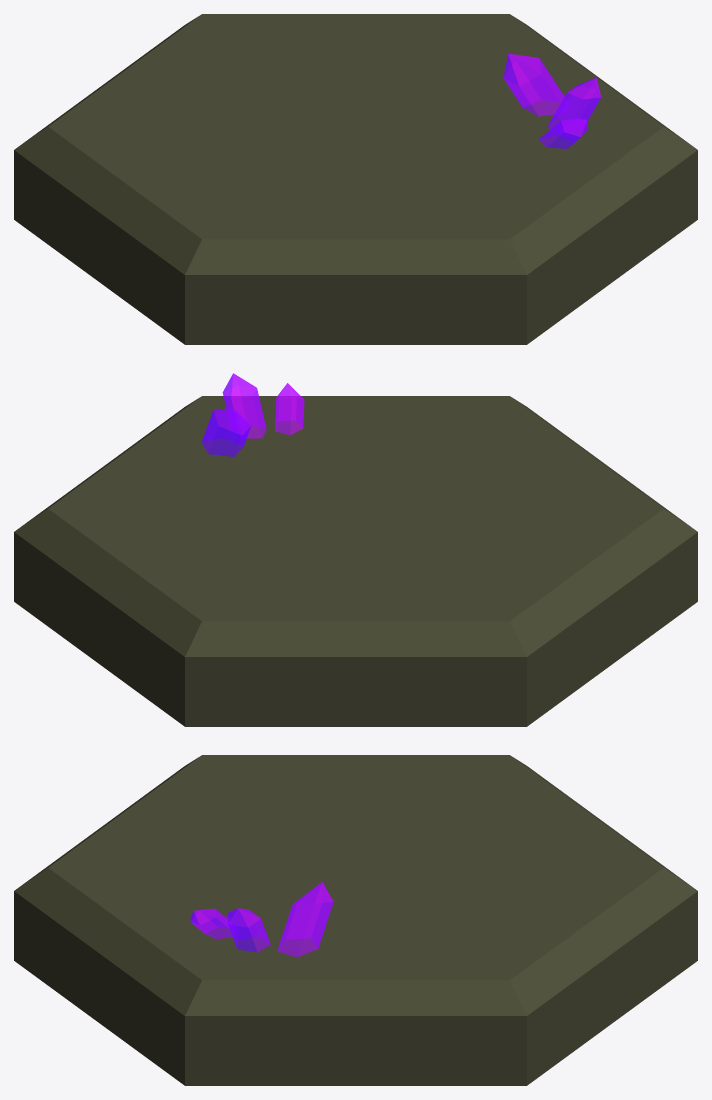
The model's file is GroundUnit(2).fbx.
3 views of the same model, one above another, from view 1: azimuth 30°, elevation 25°; view 2: azimuth 150°, elevation 25°; view 3: azimuth 270°, elevation 25° (orthographic).
Visible parts, largest first — view 1: GroundUnit1.2; view 2: GroundUnit1.2; view 3: GroundUnit1.2.
Boxes of the visible parts, box(x1,y1,x2,y2) form: GroundUnit1.2: box(14, 14, 697, 344); GroundUnit1.2: box(14, 373, 697, 726); GroundUnit1.2: box(14, 755, 697, 1085).
Bounding box in the file's own units: 1.73 × 2 × 0.4689.
